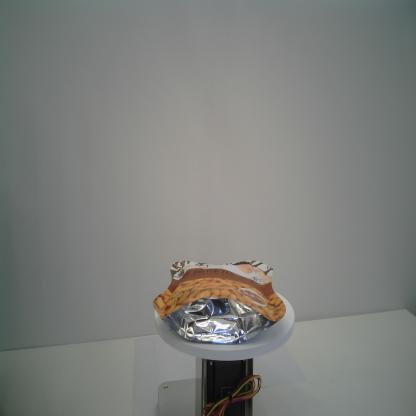Dried Fruit: (152, 260, 286, 346)
